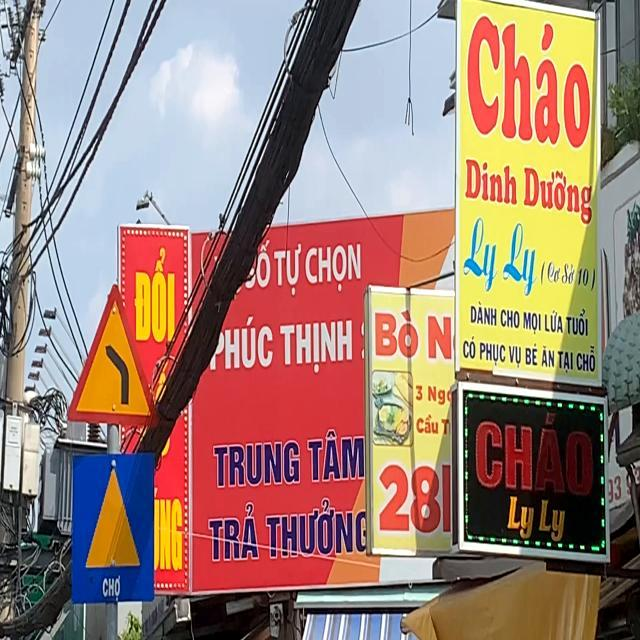cho ngoat nguy hiem vong ben trai: (62, 269, 158, 430)
